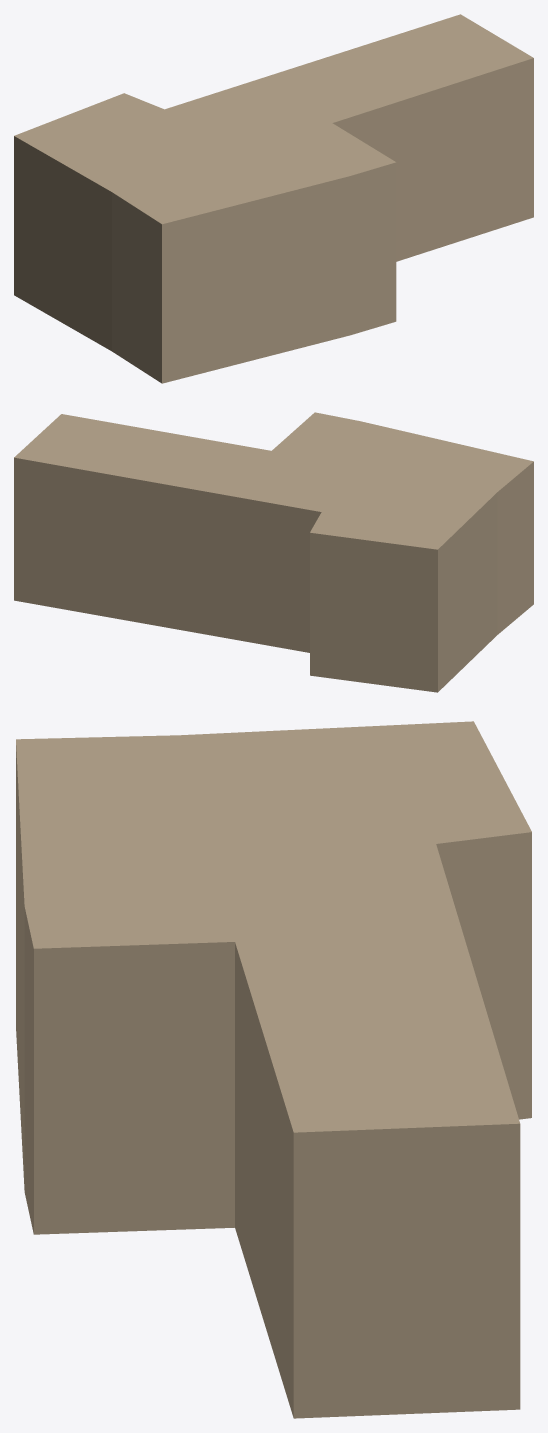
The model's file is bld_99623189.dae.
The picture shows the model from 3 angles, top to bottom: view 1: azimuth 30°, elevation 25°; view 2: azimuth 150°, elevation 25°; view 3: azimuth 270°, elevation 25°; orthographic projection. The views are drawn at different scales.
Parts seen in each view (by area): view 1: bld_99623189; view 2: bld_99623189; view 3: bld_99623189.
Part boxes in pixels (x1=…): bld_99623189: x1=14, y1=14, x2=533, y2=383; bld_99623189: x1=14, y1=412, x2=533, y2=692; bld_99623189: x1=16, y1=721, x2=531, y2=1418.
Bounding box in the file's own units: 24.68 × 13.09 × 8.
